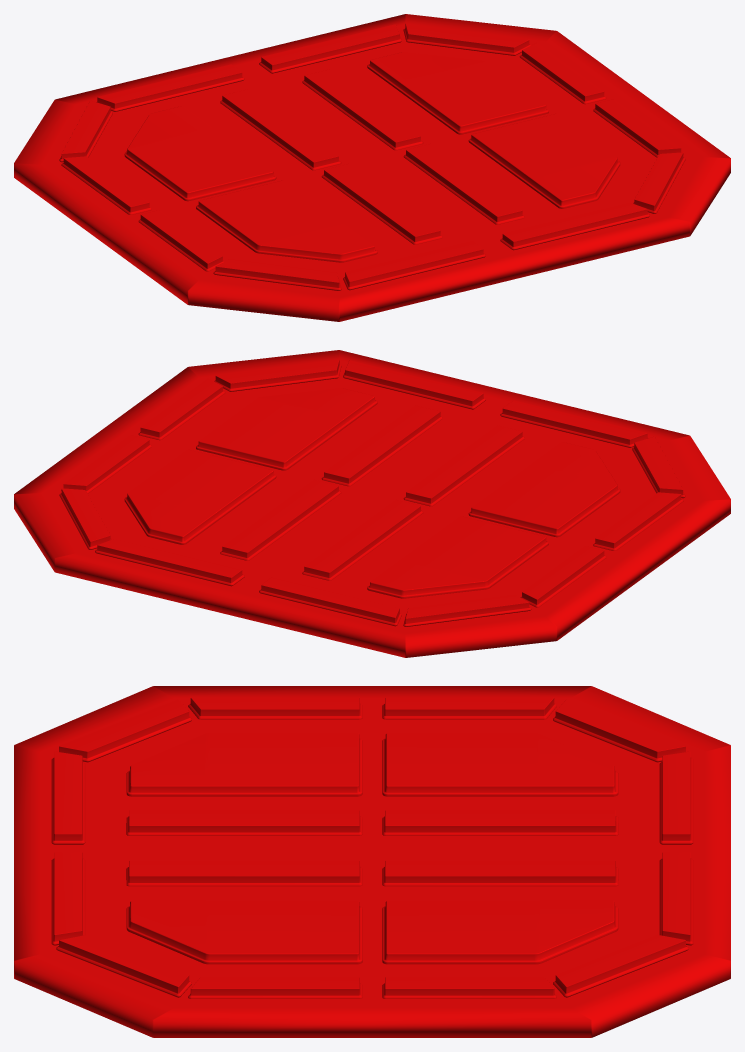
Rendered from Chamber_4_3.fbx.
The picture shows the model from 3 angles, top to bottom: view 1: azimuth 30°, elevation 25°; view 2: azimuth 150°, elevation 25°; view 3: azimuth 270°, elevation 25°; orthographic projection. The views are drawn at different scales.
Visible parts, largest first — view 1: polySurface2982; view 2: polySurface2982; view 3: polySurface2982.
Part boxes in pixels (<box>): polySurface2982: <box>14,14,730,321</box>; polySurface2982: <box>14,350,730,657</box>; polySurface2982: <box>14,686,730,1037</box>.
Bounding box in the file's own units: 794 × 30.82 × 720.
